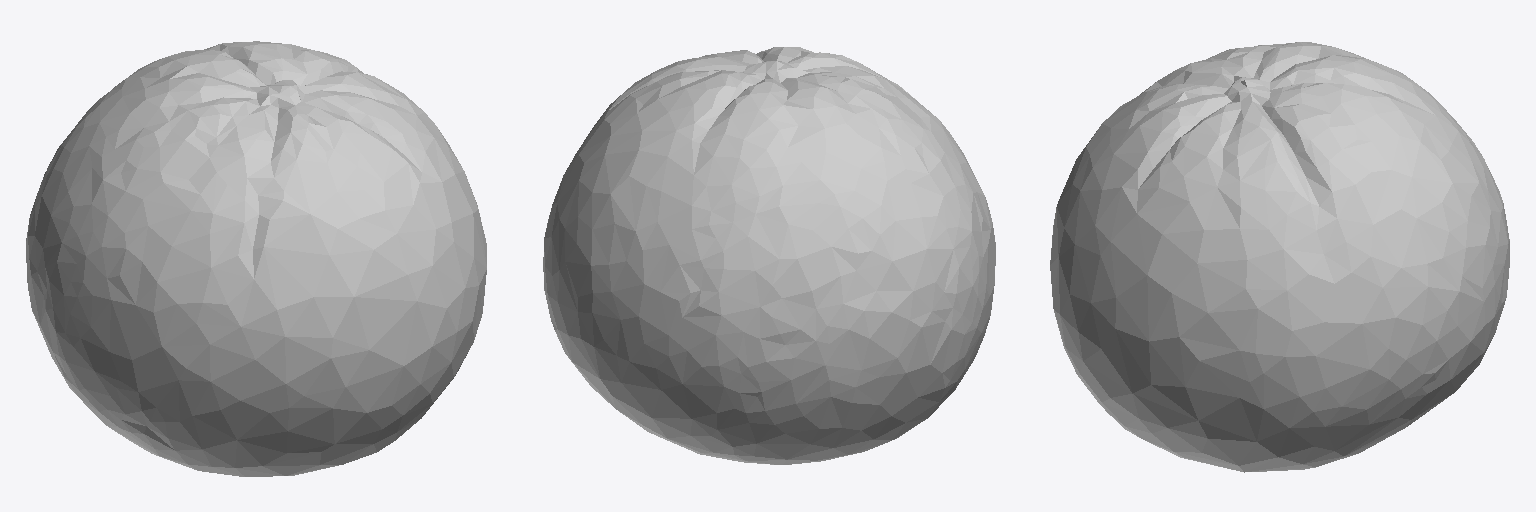
File: orangeTest.obj
3 views of the same model, side by side, from view 1: azimuth 30°, elevation 25°; view 2: azimuth 150°, elevation 25°; view 3: azimuth 270°, elevation 25° (orthographic).
Parts seen in each view (by area): view 1: Orange; view 2: Orange; view 3: Orange.
Boxes of the visible parts, x1,y1,x2,y2 form: Orange: [26, 41, 486, 476]; Orange: [543, 47, 995, 464]; Orange: [1050, 42, 1509, 472].
Size of the model in its own units: 0.5154 by 0.4579 by 0.5164.